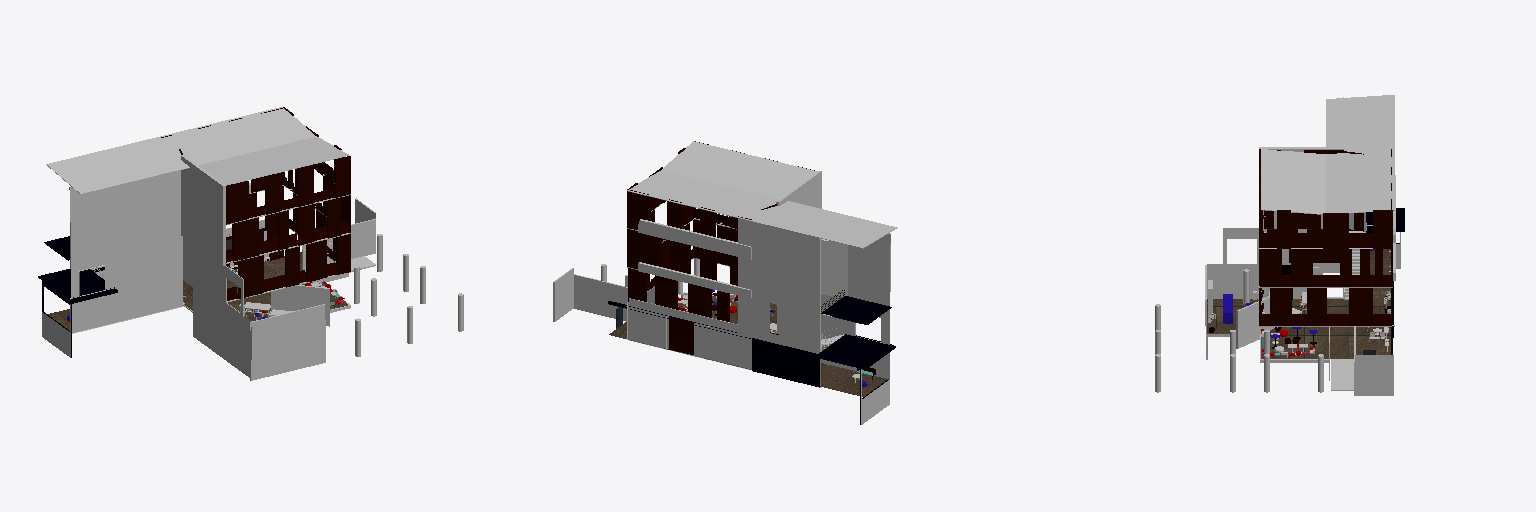
3 renders of one model, left to right at view 1: azimuth 30°, elevation 25°; view 2: azimuth 150°, elevation 25°; view 3: azimuth 270°, elevation 25°, orthographic.
Visible parts, largest first — view 1: sol_hub.001; view 2: sol_hub.001; view 3: sol_hub.001.
Part boxes in pixels (bbox=[...]): sol_hub.001: bbox=[38, 107, 463, 380]; sol_hub.001: bbox=[553, 141, 897, 424]; sol_hub.001: bbox=[1155, 95, 1404, 395].
Bounding box in the file's own units: 84.05 × 44.73 × 57.8.
Materials: 27 (7 with a texture image).